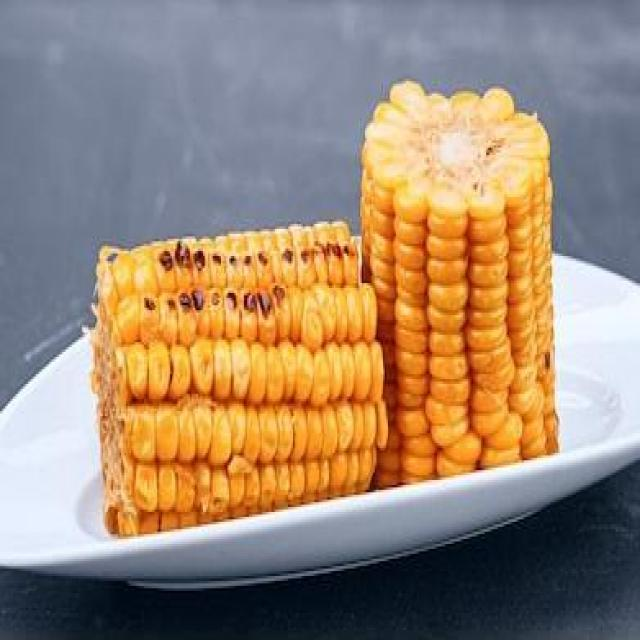Corn ear: (97, 218, 379, 504), (369, 79, 559, 462)
